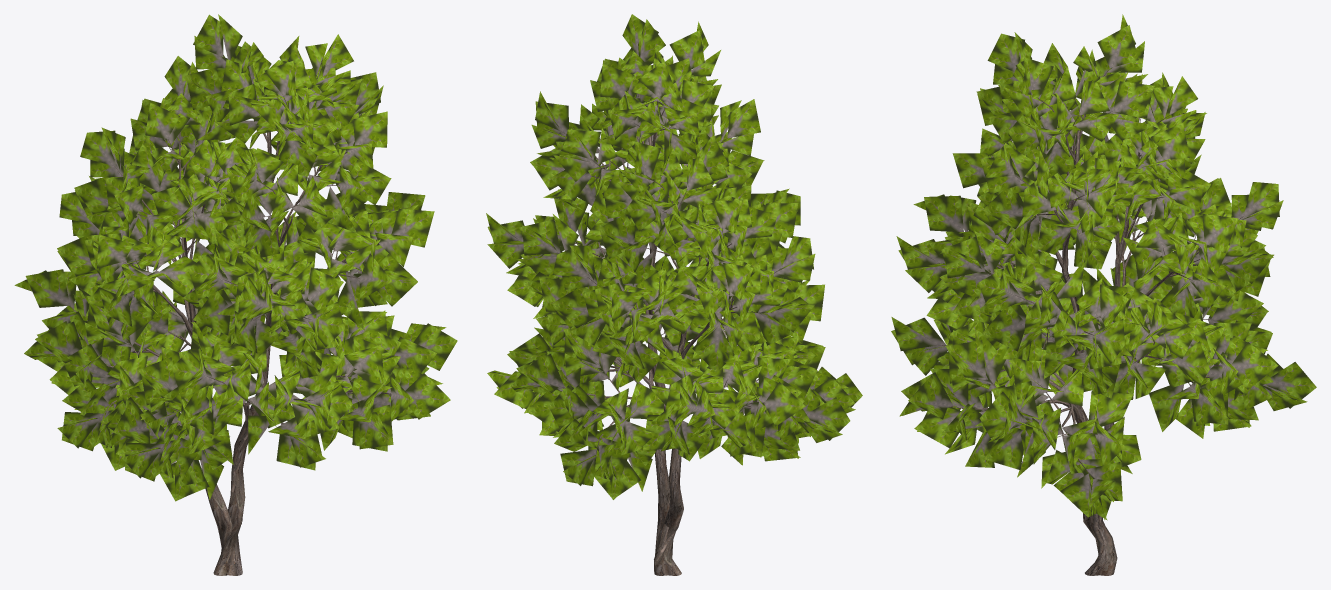
File: elm.glb
3 views of the same model, side by side, from view 1: azimuth 30°, elevation 25°; view 2: azimuth 150°, elevation 25°; view 3: azimuth 270°, elevation 25° (orthographic). The views are drawn at different scales.
Visible parts, largest first — view 1: tree.001; view 2: tree.001; view 3: tree.001.
Part boxes in pixels (<box>): tree.001: <box>14,14,457,575</box>; tree.001: <box>486,14,862,575</box>; tree.001: <box>891,14,1316,575</box>.
Bounding box in the file's own units: 167 × 232 × 162.
2 materials, 2 textured.
